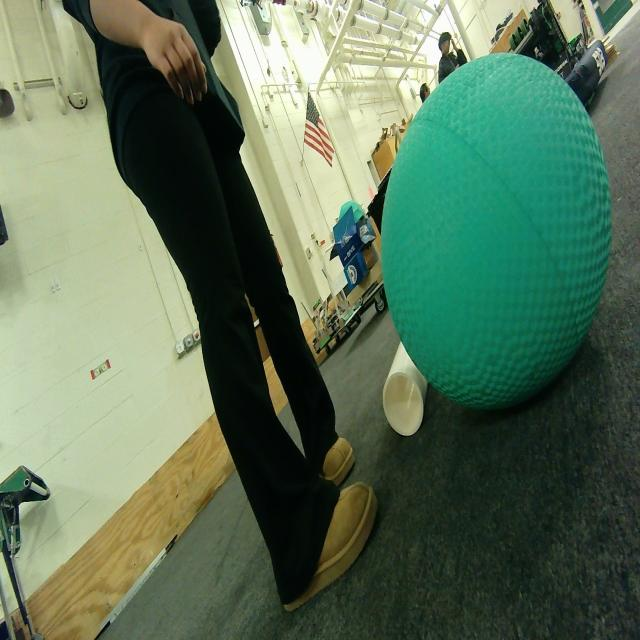algae: (375, 54, 629, 413)
coral: (378, 341, 432, 444)
